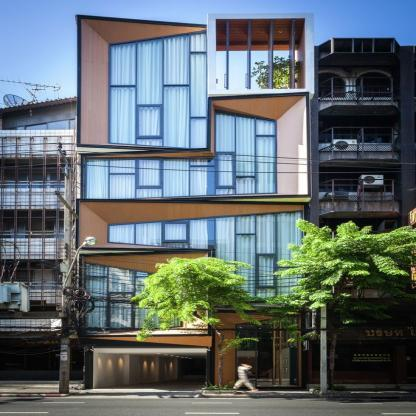Balcony: (216, 70, 305, 89)
Building Outline: (74, 12, 315, 389)
Facade: (74, 12, 315, 390)
Glass Wall: (109, 211, 302, 302), (85, 112, 275, 200), (111, 33, 206, 149), (86, 263, 180, 333), (237, 317, 297, 386)
